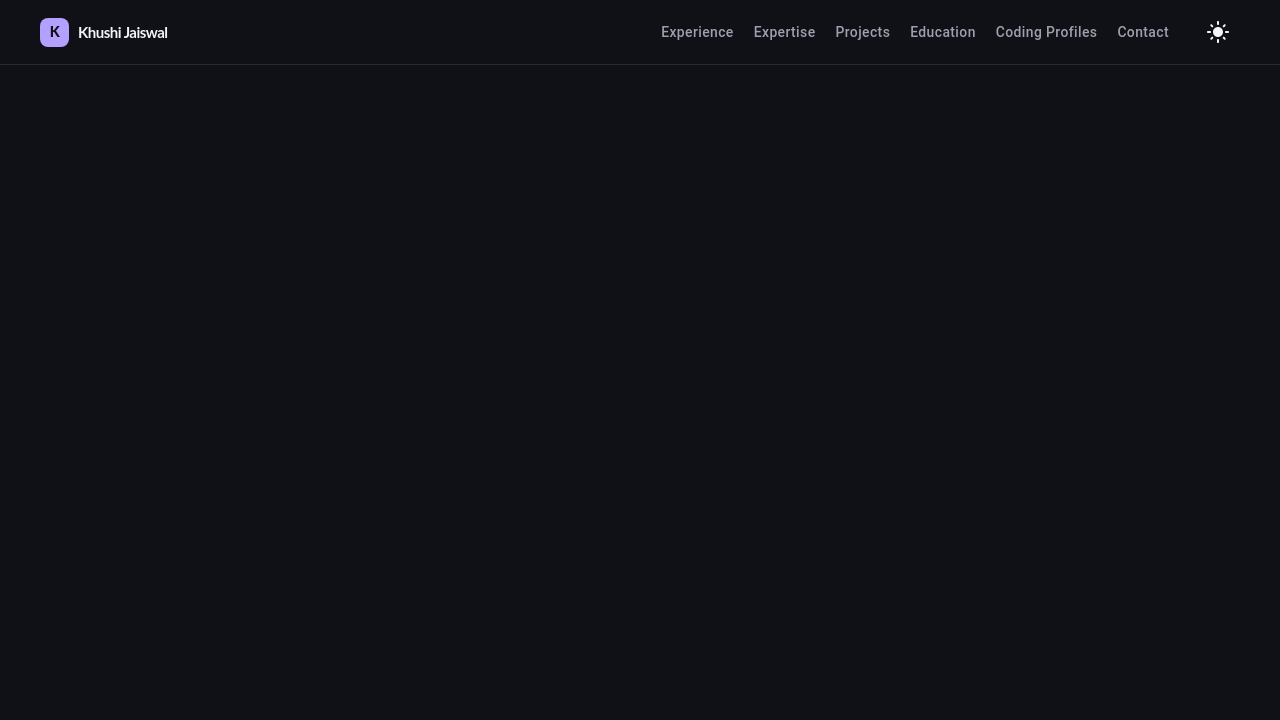
Test: switches to light mode from the navigation control
Click the button named "Switch to light mode" at (1218, 32), box [1196,13,1240,51]
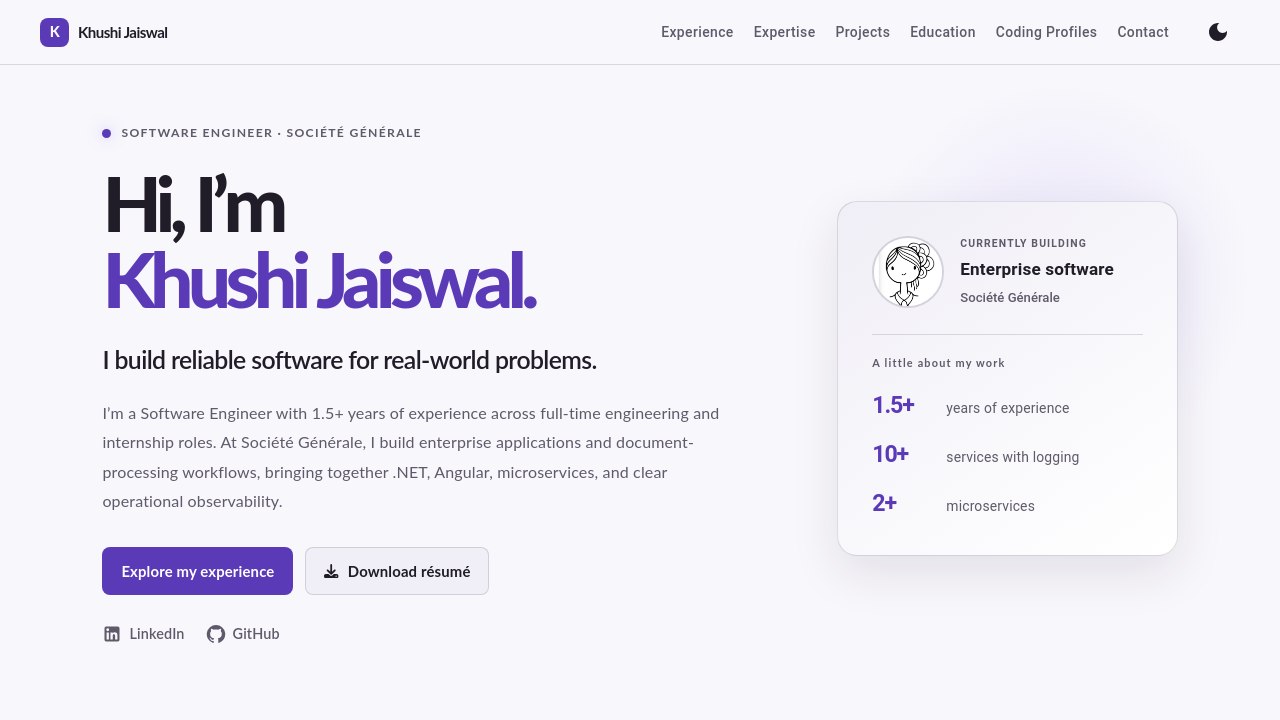
Check: the button named "Switch to dark mode" is shown, box [1196,13,1240,51]
